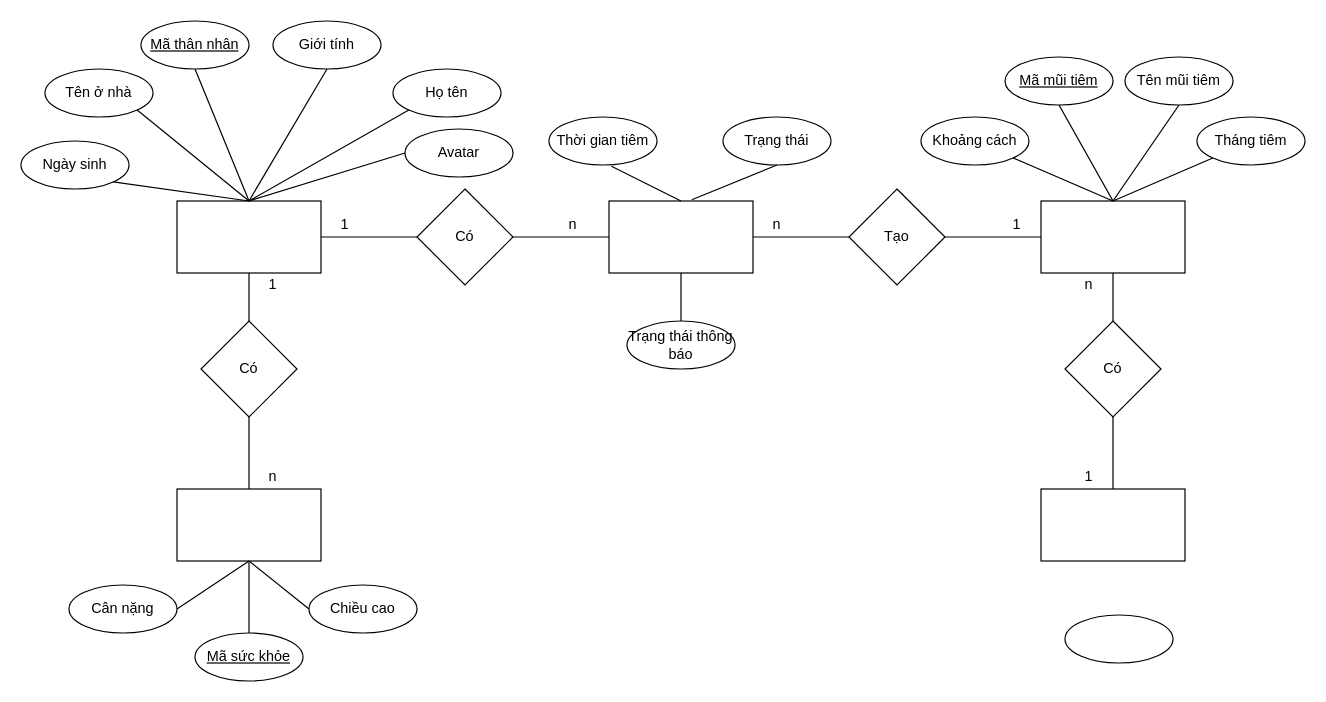
This 1326x702 diagram has some shape labels left out. Each missing label, with the box of its shape:
Chi Tiết Mũi Tiêm: (608, 200, 753, 273)
Mã vaccine: (1064, 614, 1173, 663)
Mũi Tiêm: (1040, 200, 1185, 273)
Sức Khỏe: (176, 488, 321, 561)
Thân Nhân: (176, 200, 321, 273)
Vaccine: (1040, 488, 1185, 561)
